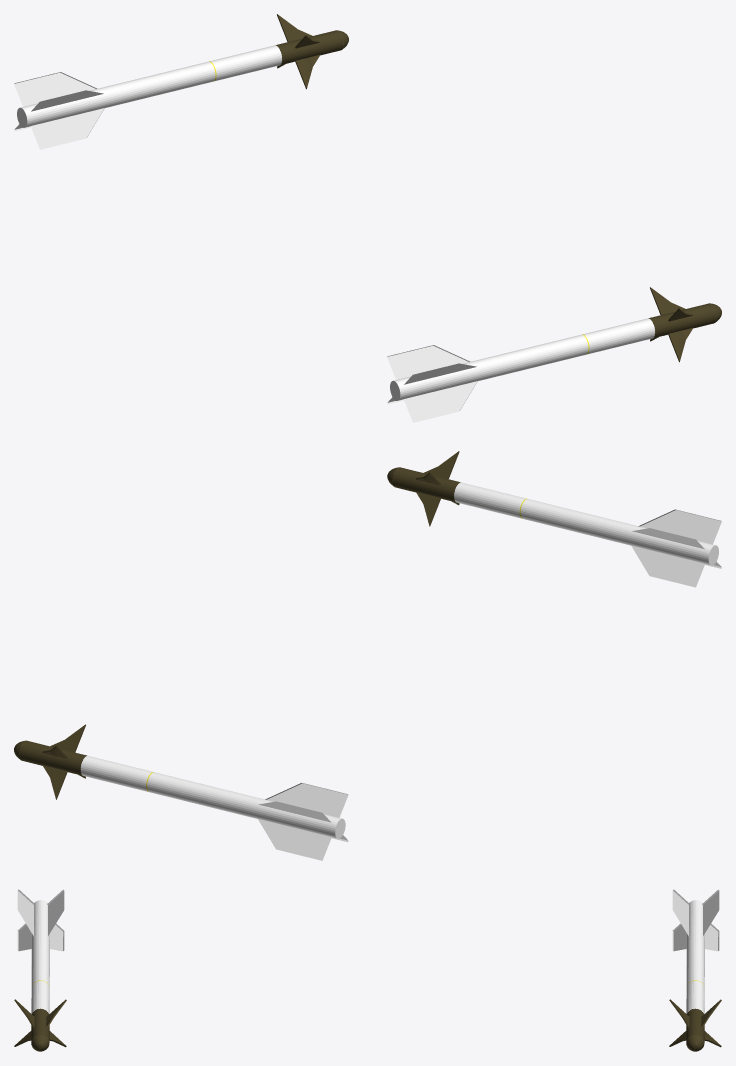
Rendered from f14baim923.glb.
The picture shows the model from 3 angles, top to bottom: view 1: azimuth 30°, elevation 25°; view 2: azimuth 150°, elevation 25°; view 3: azimuth 270°, elevation 25°; orthographic projection. The views are drawn at different scales.
Parts seen in each view (by area): view 1: 円柱.002, 円柱.003; view 2: 円柱.003, 円柱.002; view 3: 円柱.002, 円柱.003.
Boxes of the visible parts, x1,y1,x2,y2 form: 円柱.002: (387, 287, 721, 422); 円柱.003: (14, 14, 348, 149); 円柱.003: (14, 724, 348, 860); 円柱.002: (387, 451, 721, 587); 円柱.002: (14, 889, 66, 1051); 円柱.003: (669, 889, 721, 1051).
Size of the model in its own units: 3.38 by 0.543 by 7.26.
2 materials, 2 textured.
